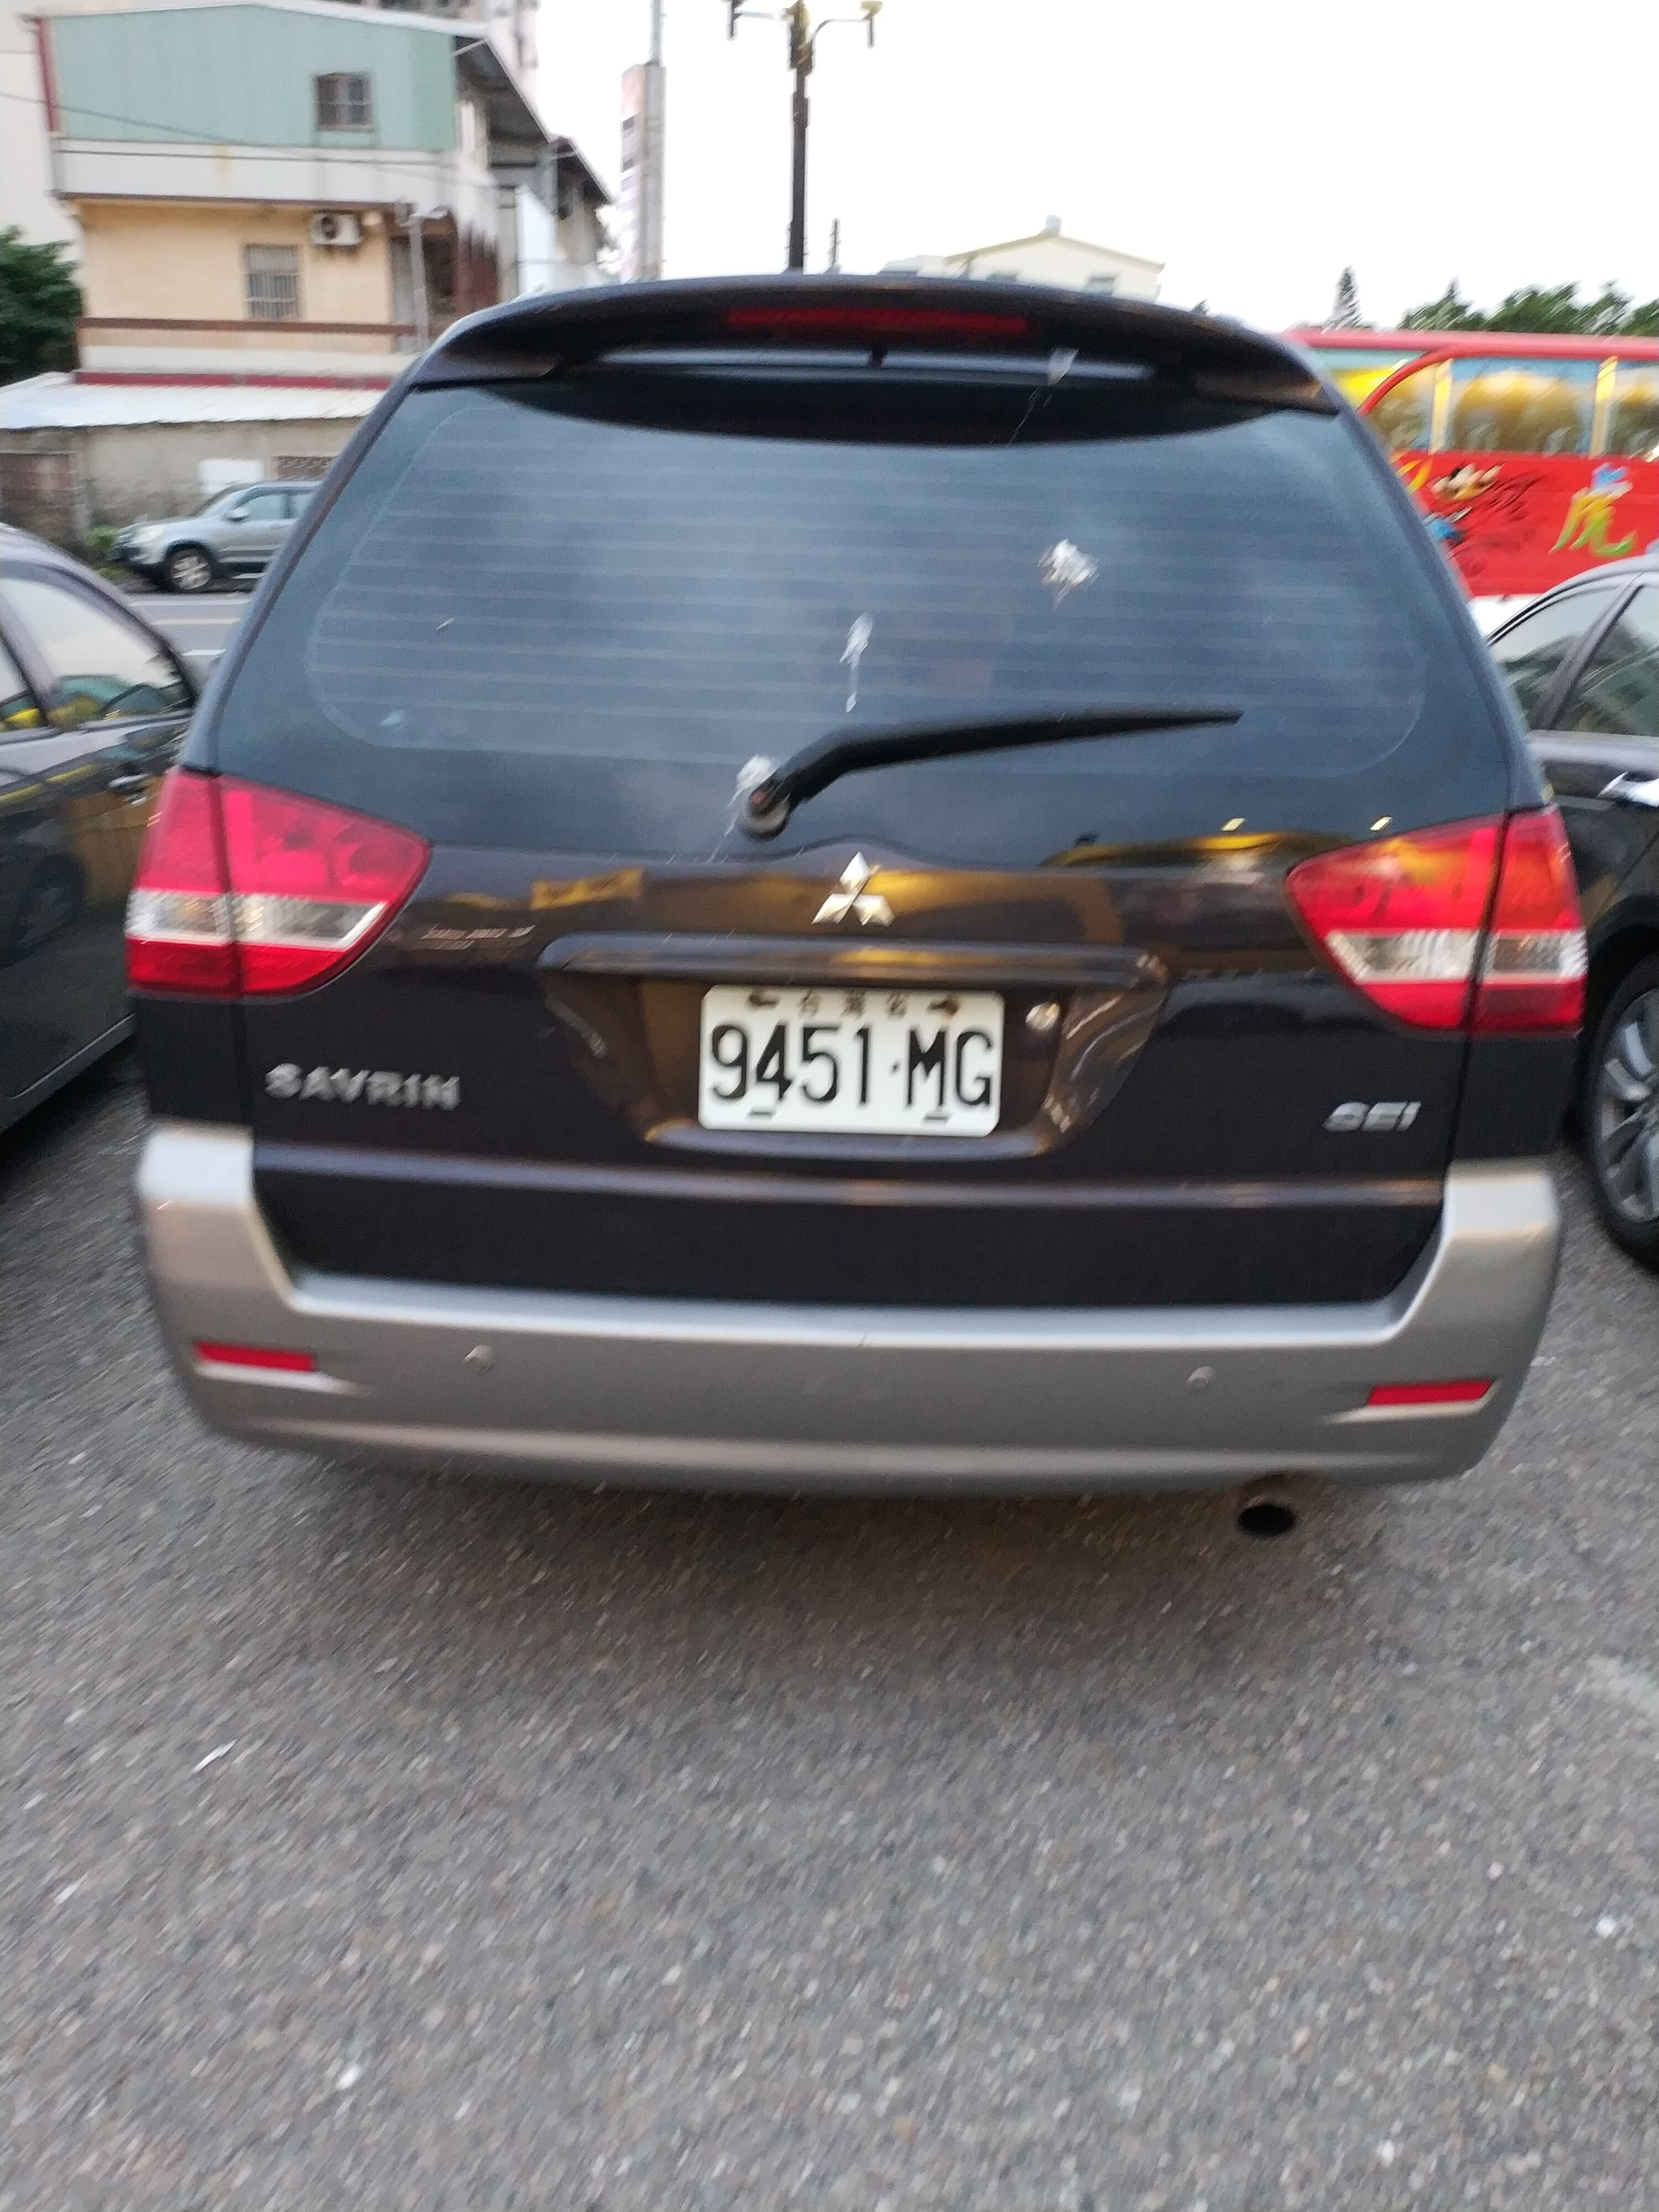car: (122, 273, 1598, 1541), (1288, 320, 1659, 587), (101, 474, 340, 590)
car_card: (688, 984, 1014, 1141)
